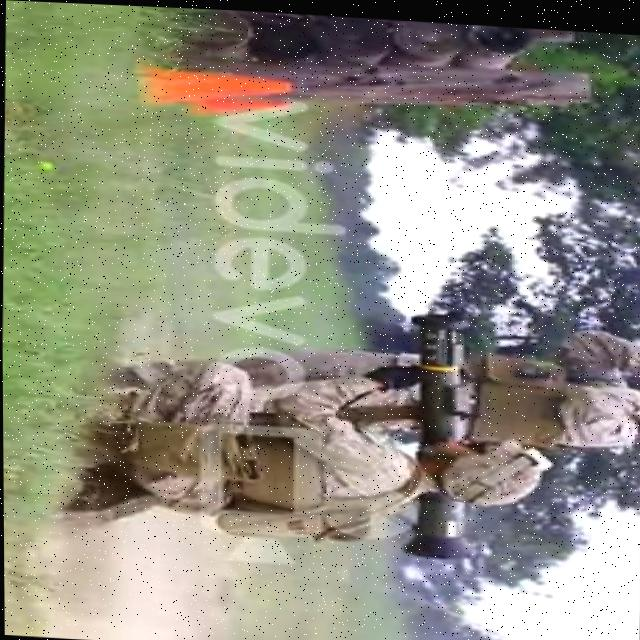rocket: (407, 308, 478, 557)
